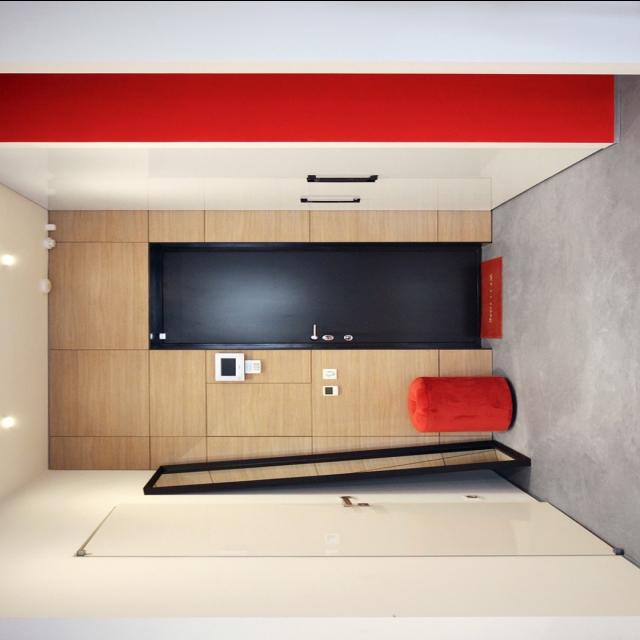close: (153, 242, 486, 348), (90, 495, 600, 556)
